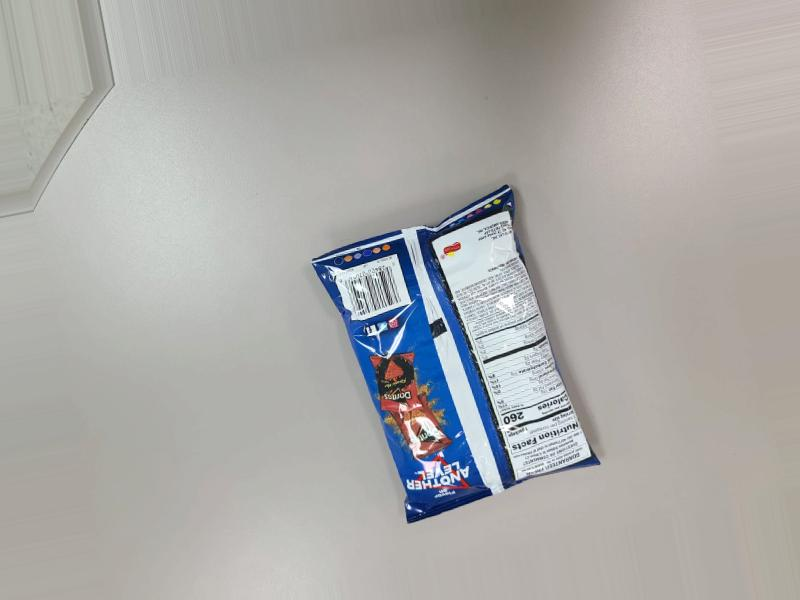doritos: (322, 172, 587, 527)
